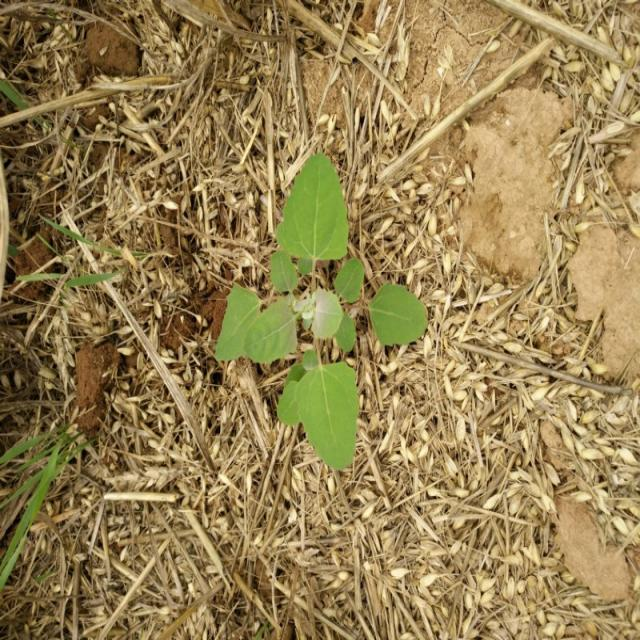ca: (220, 152, 426, 475)
